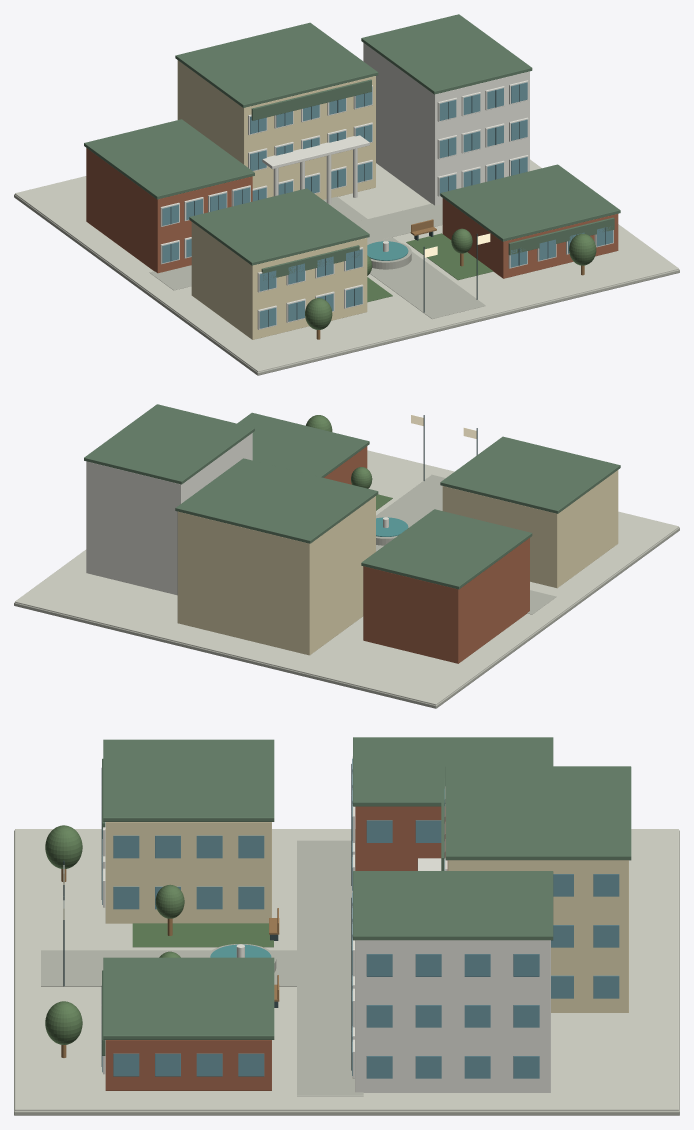
Rendered from university.glb.
3 renders of one model, top to bottom at view 1: azimuth 30°, elevation 25°; view 2: azimuth 150°, elevation 25°; view 3: azimuth 270°, elevation 25°, orthographic. The views are drawn at different scales.
Visible parts, largest first — view 1: Paving, ScienceBuilding, UniversityMain, UniversityMainRoof, Library, LibraryRoof, StudentCentreRoof, ArtsBuilding, ScienceBuildingRoof, ArtsBuildingRoof, CampusPath, StudentCentre (+10 smaller); view 2: Paving, UniversityMain, ArtsBuilding, ScienceBuilding, UniversityMainRoof, Library, LibraryRoof, ArtsBuildingRoof, ScienceBuildingRoof, StudentCentreRoof, Lot, CampusPath (+2 smaller); view 3: Paving, ScienceBuilding, UniversityMainRoof, CampusPath.001, LibraryRoof, StudentCentreRoof, ScienceBuildingRoof, Library, UniversityMain, ArtsBuildingRoof, StudentCentre, ArtsBuilding (+35 smaller).
Boxes of the visible parts, bbox=[...] form: Paving: bbox=[15, 159, 678, 372]; ScienceBuilding: bbox=[363, 43, 529, 205]; UniversityMain: bbox=[177, 60, 375, 199]; UniversityMainRoof: bbox=[175, 22, 378, 107]; Library: bbox=[191, 222, 367, 339]; LibraryRoof: bbox=[189, 188, 369, 265]; StudentCentreRoof: bbox=[440, 164, 620, 241]; ArtsBuilding: bbox=[86, 148, 252, 273]; ScienceBuildingRoof: bbox=[361, 14, 532, 94]; ArtsBuildingRoof: bbox=[84, 119, 254, 199]; CampusPath: bbox=[323, 196, 485, 318]; StudentCentre: bbox=[442, 198, 618, 278]; Paving: bbox=[15, 450, 678, 705]; UniversityMain: bbox=[177, 496, 375, 655]; ArtsBuilding: bbox=[363, 538, 529, 663]; ScienceBuilding: bbox=[86, 433, 252, 595]; UniversityMainRoof: bbox=[175, 458, 378, 543]; Library: bbox=[442, 470, 618, 588]; LibraryRoof: bbox=[440, 436, 620, 513]; ArtsBuildingRoof: bbox=[361, 509, 532, 589]; ScienceBuildingRoof: bbox=[84, 404, 254, 484]; StudentCentreRoof: bbox=[237, 412, 369, 477]; Lot: bbox=[14, 527, 679, 708]; CampusPath: bbox=[376, 474, 445, 551]; Paving: bbox=[15, 829, 678, 1110]; ScienceBuilding: bbox=[355, 940, 550, 1092]; UniversityMainRoof: bbox=[445, 766, 631, 860]; CampusPath.001: bbox=[297, 840, 363, 1096]; LibraryRoof: bbox=[103, 739, 274, 821]; StudentCentreRoof: bbox=[103, 957, 274, 1039]; ScienceBuildingRoof: bbox=[353, 871, 553, 940]; Library: bbox=[105, 822, 271, 923]; UniversityMain: bbox=[448, 860, 628, 1012]; ArtsBuildingRoof: bbox=[353, 737, 553, 806]; StudentCentre: bbox=[105, 1040, 271, 1090]; ArtsBuilding: bbox=[355, 806, 447, 870].
Size of the model in its own units: 32 by 8.69 by 32.
